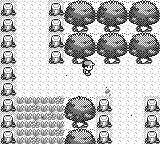captura: (16, 97, 64, 143)
main: (82, 61, 95, 75)
no-caminable: (65, 1, 160, 64), (1, 0, 17, 144), (65, 95, 95, 144), (48, 0, 65, 64), (96, 95, 113, 144), (145, 95, 160, 144)
